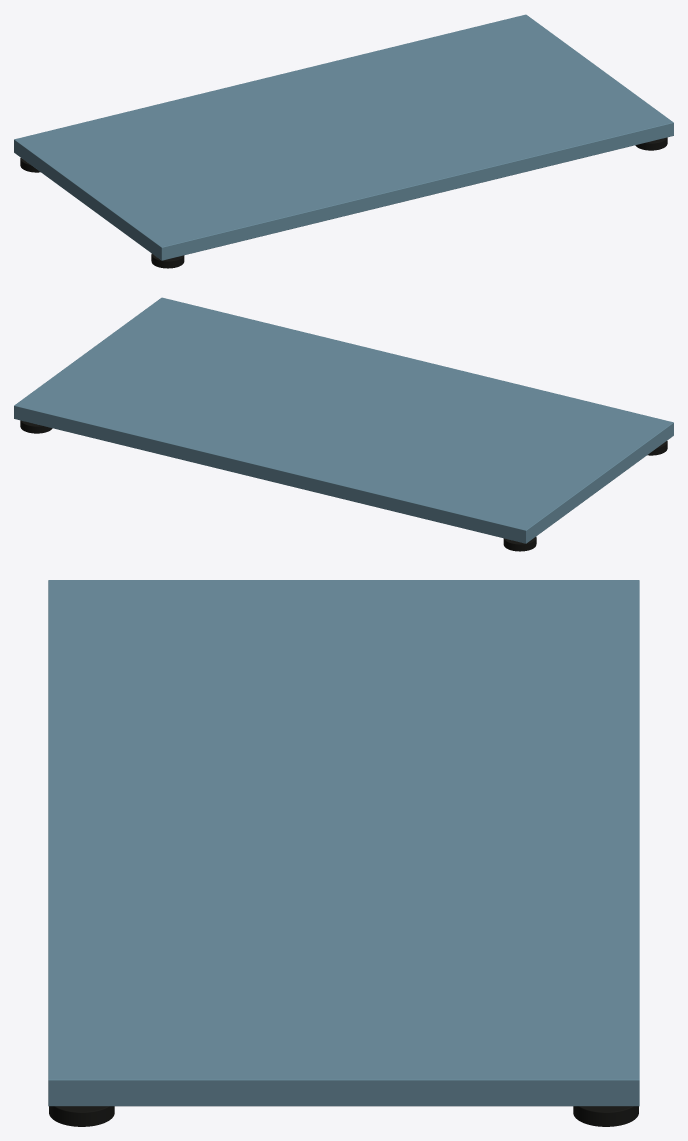
The model's file is PLT-2X1-AC.glb.
3 views of the same model, one above another, from view 1: azimuth 30°, elevation 25°; view 2: azimuth 150°, elevation 25°; view 3: azimuth 270°, elevation 25° (orthographic). The views are drawn at different scales.
Size of the model in its own units: 720 by 32 by 360.
